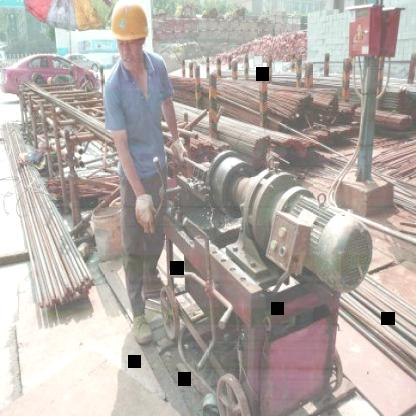helmet: (106, 0, 152, 72)
